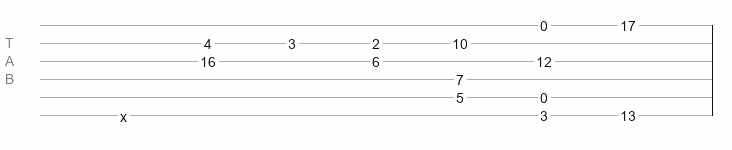0: (540, 18, 548, 28), (540, 90, 548, 100)
10: (452, 36, 468, 46)
12: (536, 54, 552, 64)
13: (620, 108, 636, 118)
16: (200, 54, 216, 64)
17: (620, 18, 636, 28)
2: (372, 36, 380, 46)
3: (288, 36, 296, 46), (540, 108, 548, 118)
4: (204, 36, 212, 46)
5: (456, 90, 464, 100)
6: (372, 54, 380, 64)
7: (456, 72, 464, 82)
x: (120, 109, 127, 117)
